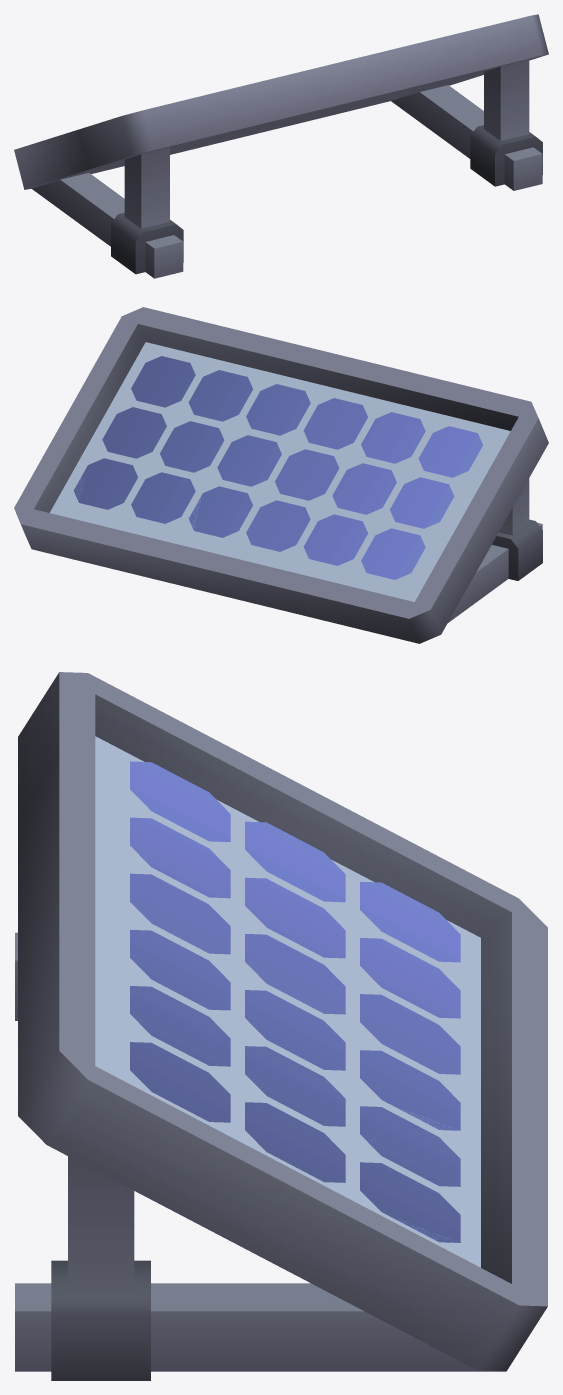
Rendered from solar-panel-landscape.glb.
3 renders of one model, top to bottom at view 1: azimuth 30°, elevation 25°; view 2: azimuth 150°, elevation 25°; view 3: azimuth 270°, elevation 25°, orthographic. The views are drawn at different scales.
Parts seen in each view (by area): view 1: solar-panel-landscape; view 2: solar-panel-landscape; view 3: solar-panel-landscape.
Boxes of the visible parts, left/top/right/bottom form: solar-panel-landscape: left=14, top=14, right=548, bottom=278; solar-panel-landscape: left=14, top=307, right=548, bottom=643; solar-panel-landscape: left=15, top=672, right=547, bottom=1380.
Size of the model in its own units: 0.7134 by 0.2623 by 0.3951.
Materials: 1 (1 with a texture image).
